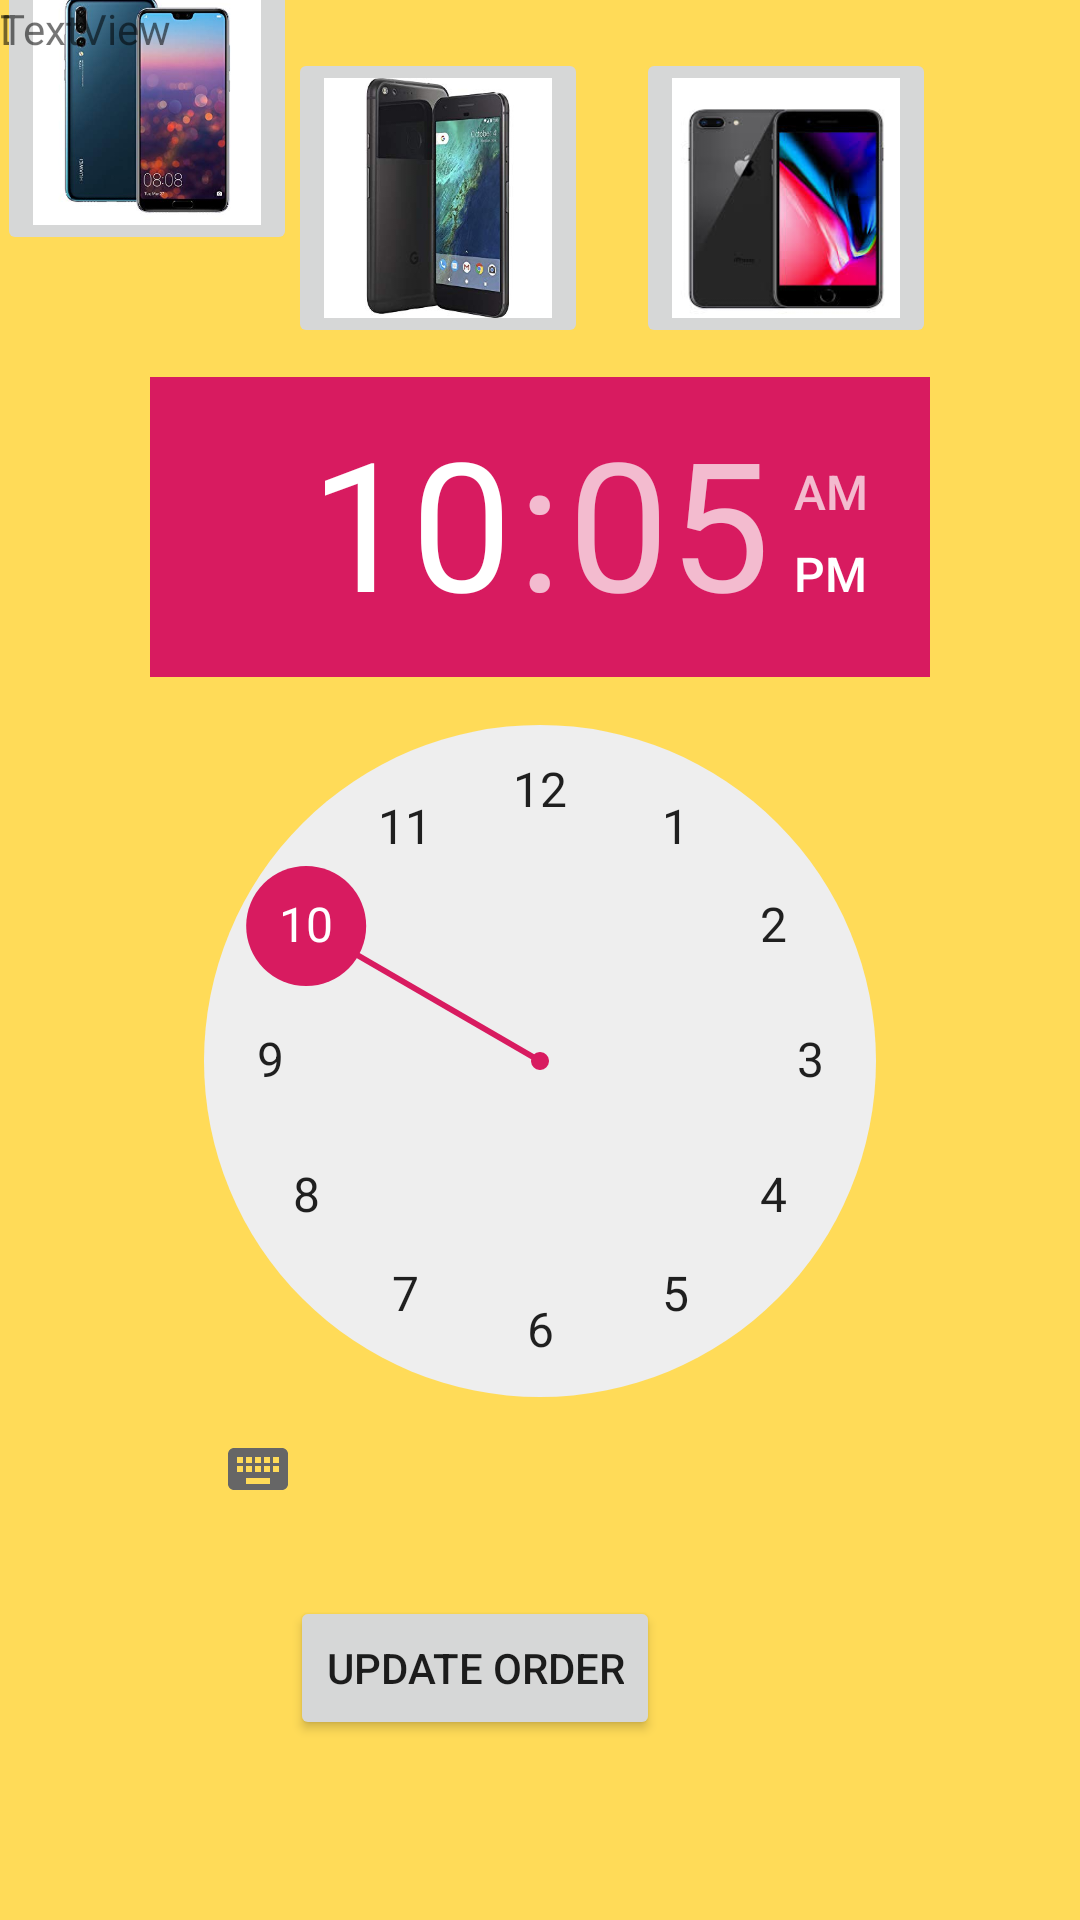

Named icons in this screenshot (1080px×1920px) and their centers, (x,y):
iphone: (786,198)
pixel: (438,198)
